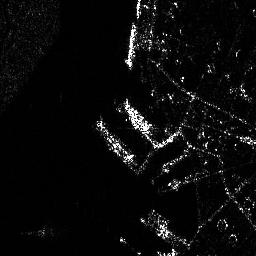ship: (95, 120, 134, 161), (119, 97, 153, 133), (125, 21, 137, 70)
